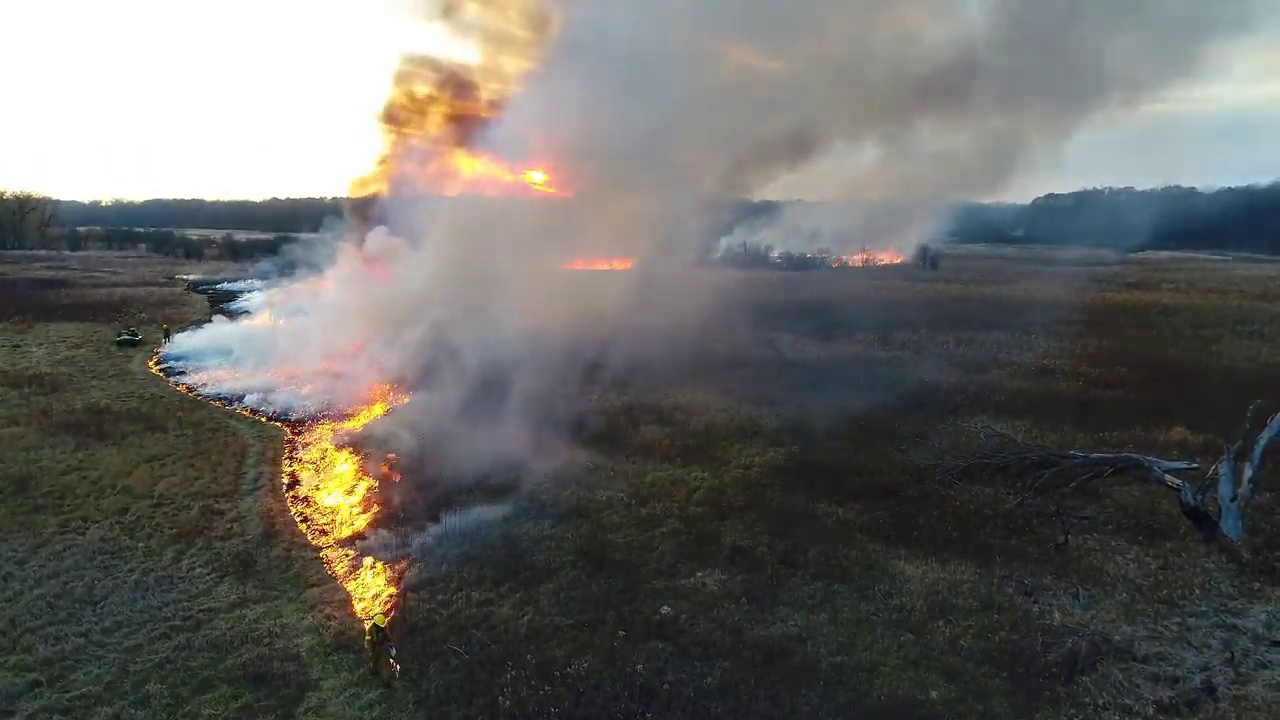forest_fire: (149, 353, 407, 623), (816, 249, 905, 268), (563, 257, 633, 270)
